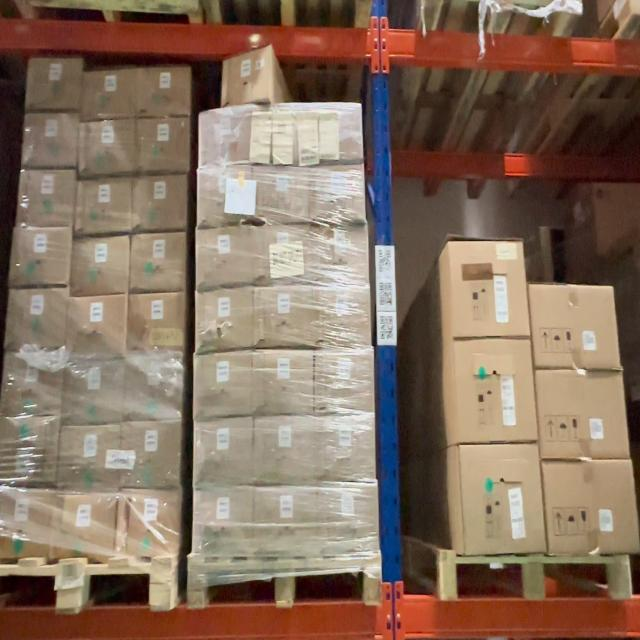box: (462, 445, 542, 552), (456, 342, 536, 442), (546, 464, 634, 554), (539, 372, 625, 458), (452, 241, 526, 337), (534, 283, 618, 367), (256, 419, 316, 484), (256, 491, 316, 556), (194, 490, 251, 555), (323, 487, 379, 553), (255, 352, 314, 414), (196, 420, 252, 484), (1, 419, 56, 484), (0, 491, 52, 557), (66, 362, 122, 423), (256, 288, 314, 346), (58, 497, 114, 557), (62, 428, 118, 488), (123, 494, 177, 556), (317, 353, 374, 411), (128, 359, 184, 418), (7, 354, 63, 413), (320, 419, 374, 480), (197, 354, 251, 415), (69, 297, 124, 356), (11, 288, 65, 348), (125, 425, 179, 485), (312, 225, 368, 282), (316, 289, 371, 347), (199, 290, 253, 349), (130, 293, 184, 351), (15, 228, 70, 284), (74, 238, 128, 295), (200, 230, 252, 288), (134, 234, 186, 290), (256, 227, 308, 283), (134, 176, 187, 230), (199, 169, 252, 223), (257, 169, 311, 221), (79, 179, 131, 233), (80, 120, 132, 173), (23, 171, 74, 225), (315, 166, 364, 222), (26, 114, 78, 166), (138, 118, 189, 171), (307, 109, 359, 160), (29, 59, 80, 109), (203, 113, 251, 164), (140, 68, 190, 116), (224, 53, 271, 104), (257, 112, 303, 162), (86, 71, 135, 117)
